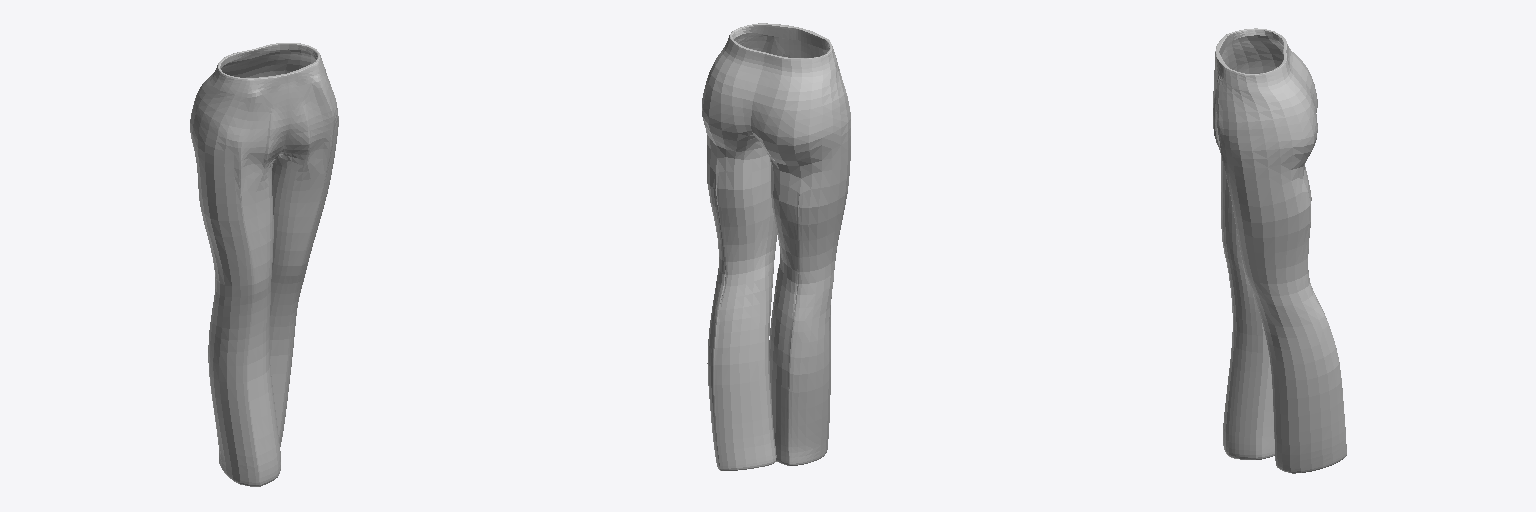
File: geziku.obj
3 views of the same model, side by side, from view 1: azimuth 30°, elevation 25°; view 2: azimuth 150°, elevation 25°; view 3: azimuth 270°, elevation 25° (orthographic).
Parts seen in each view (by area): view 1: Object__0; view 2: Object__0; view 3: Object__0.
Boxes of the visible parts, x1,y1,x2,y2 form: Object__0: [190, 43, 338, 486]; Object__0: [702, 23, 850, 470]; Object__0: [1213, 28, 1346, 473].
Size of the model in its own units: 9.23 by 27.44 by 8.1.